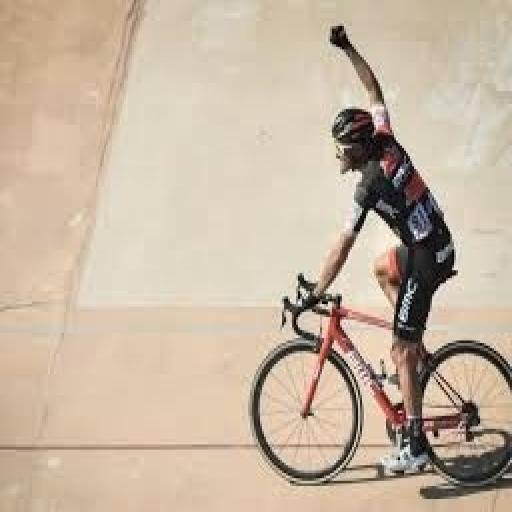cycling: (296, 18, 462, 478)
